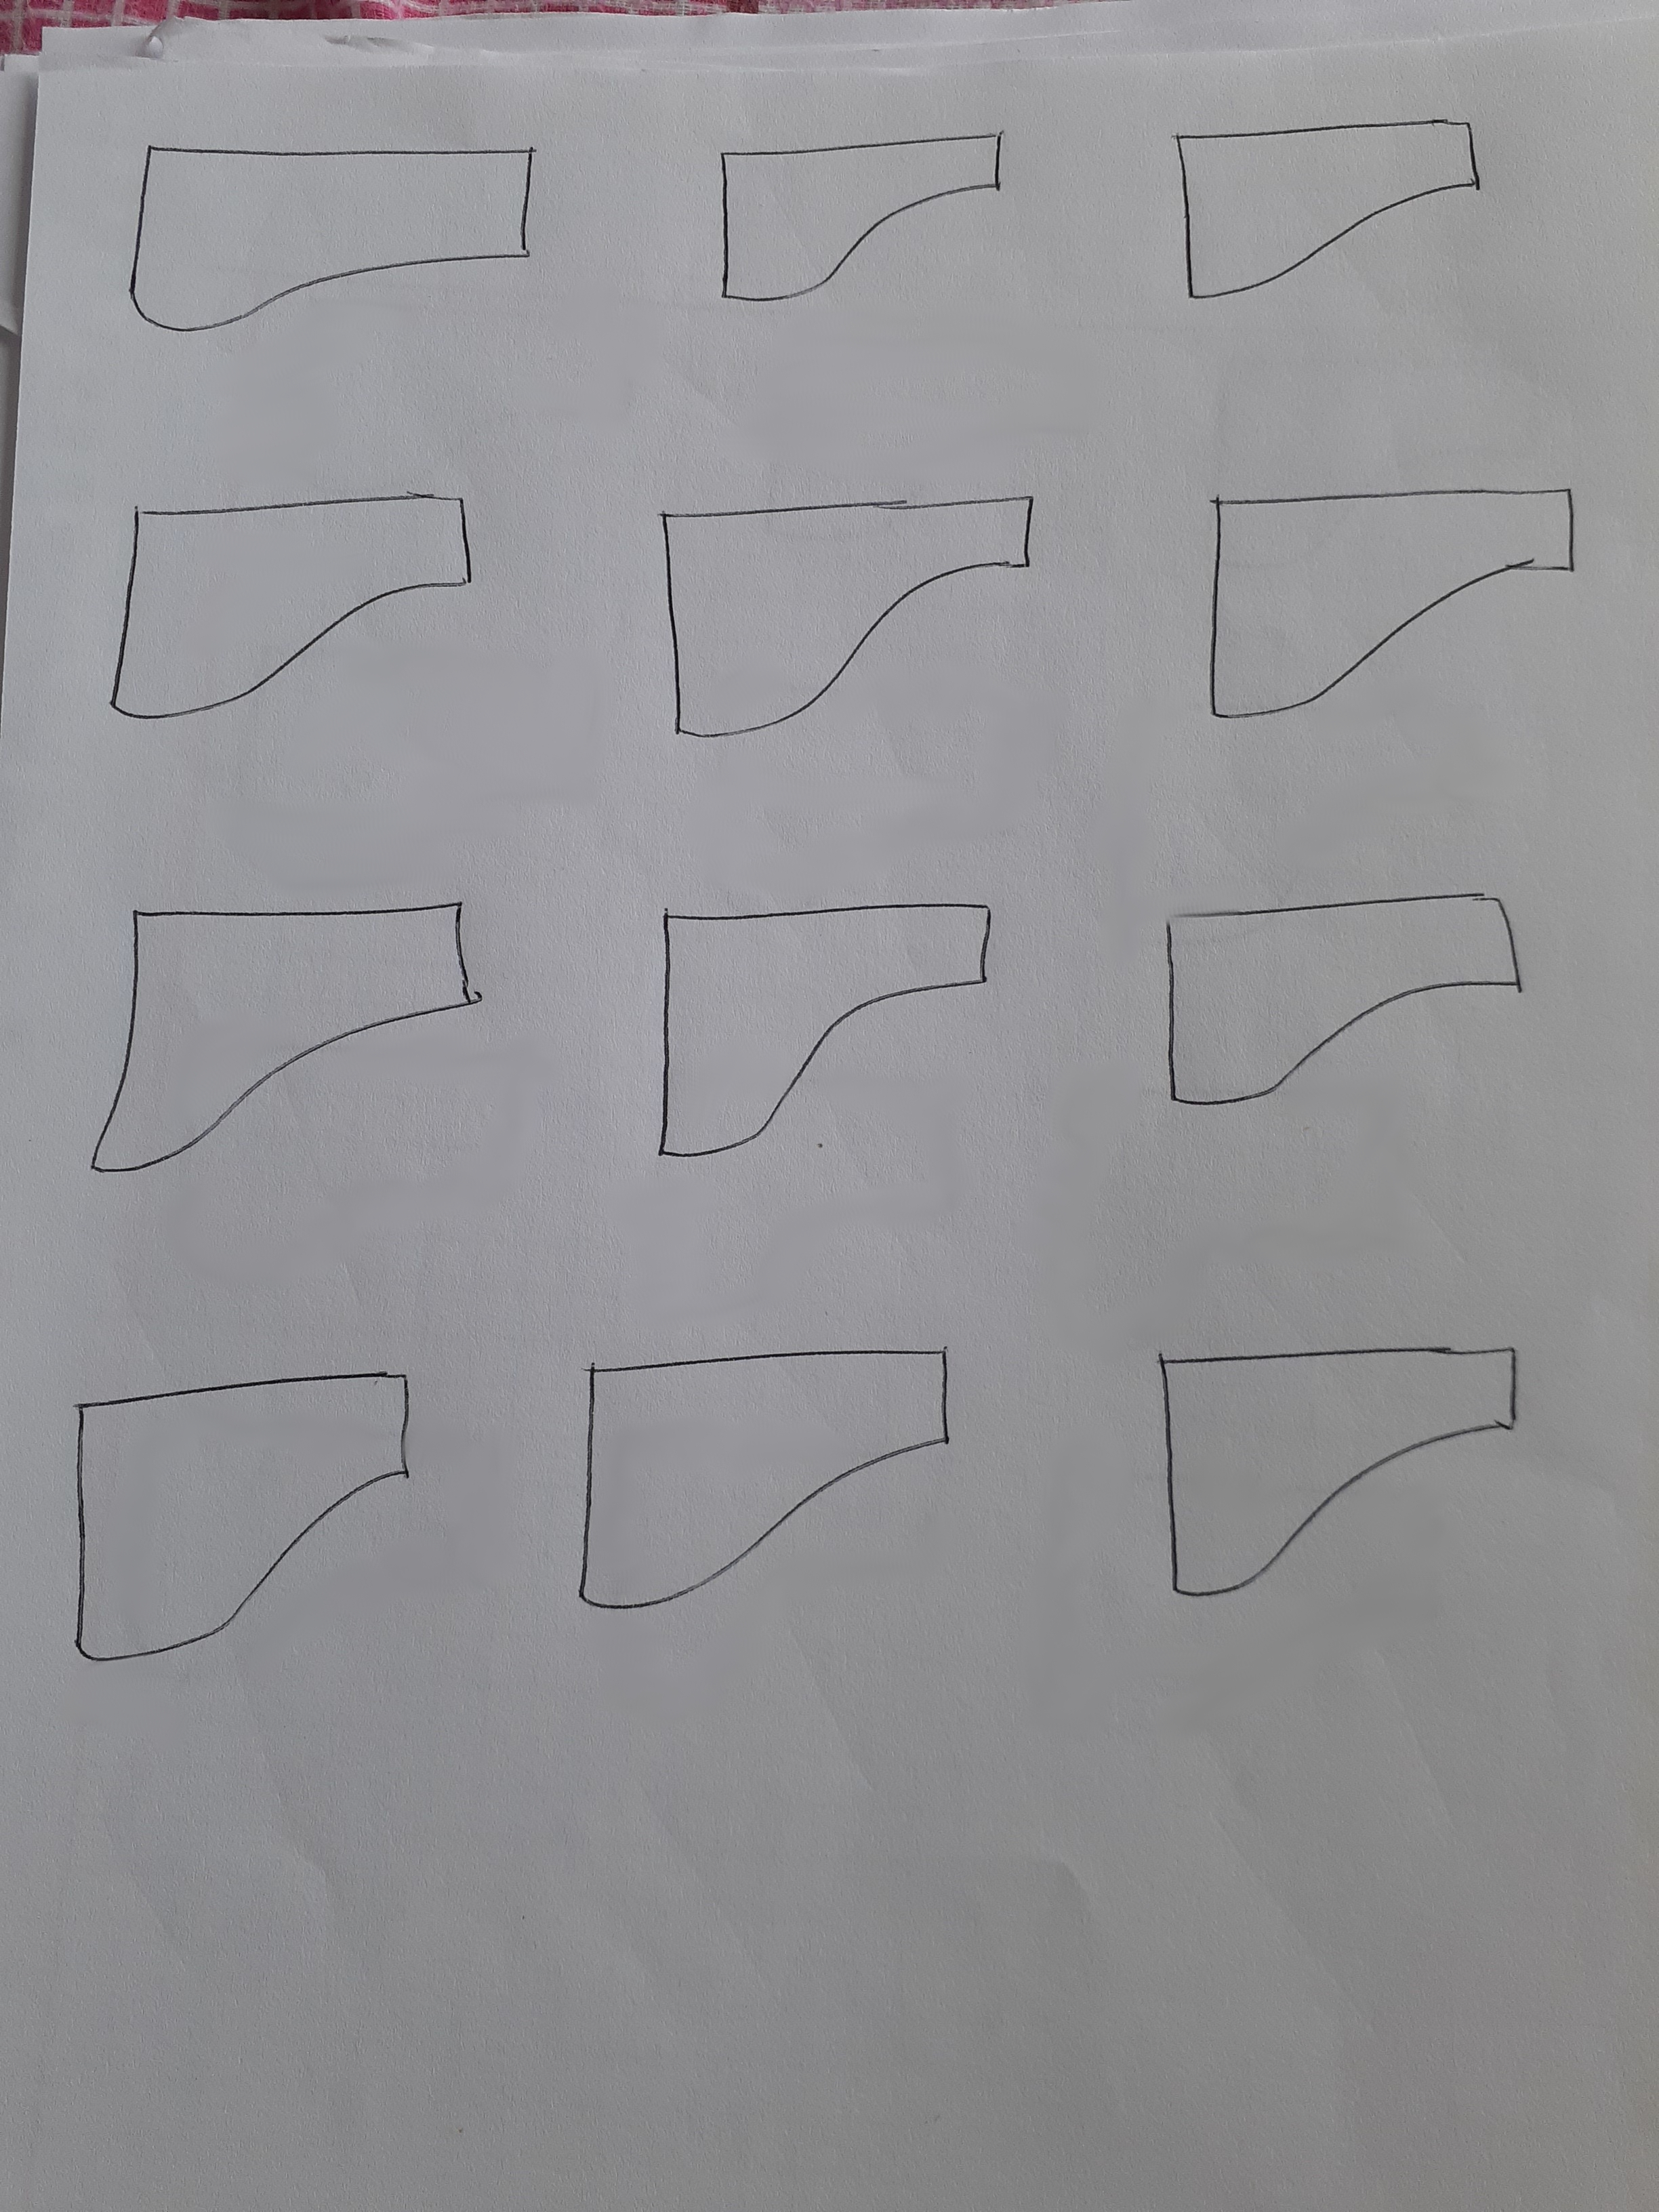print: (56, 855, 516, 1191), (545, 1324, 997, 1641), (38, 1357, 430, 1683), (1140, 1299, 1546, 1604), (648, 866, 1014, 1188), (68, 472, 495, 744), (627, 489, 1061, 747), (1190, 469, 1600, 723), (122, 141, 552, 368), (1143, 880, 1542, 1123), (1136, 99, 1525, 317), (702, 113, 1032, 320)
